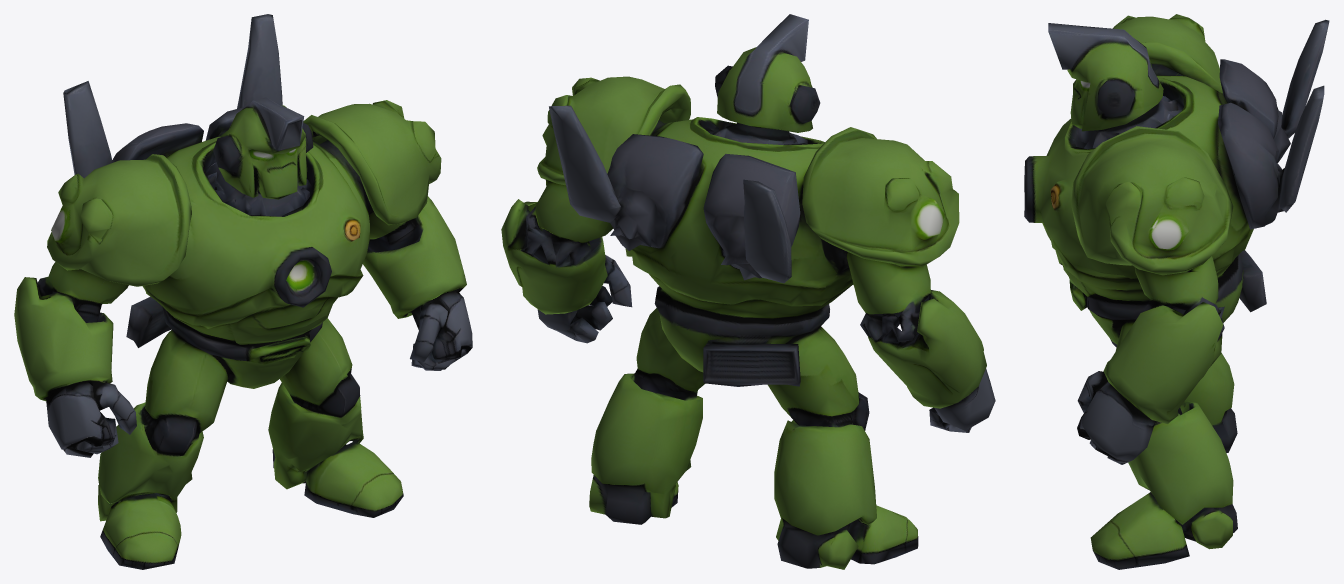
File: bastion_tank.glb
3 renders of one model, left to right at view 1: azimuth 30°, elevation 25°; view 2: azimuth 150°, elevation 25°; view 3: azimuth 270°, elevation 25°, orthographic. The views are drawn at different scales.
Parts seen in each view (by area): view 1: tripo_node_3f2609cf; view 2: tripo_node_3f2609cf; view 3: tripo_node_3f2609cf.
Part boxes in pixels (box(x1,y1,x2,y2)): tripo_node_3f2609cf: box(14, 14, 472, 569); tripo_node_3f2609cf: box(501, 14, 995, 569); tripo_node_3f2609cf: box(1024, 14, 1329, 569).
Bounding box in the file's own units: 1 × 0.9768 × 0.5722.
1 material, 1 textured.
